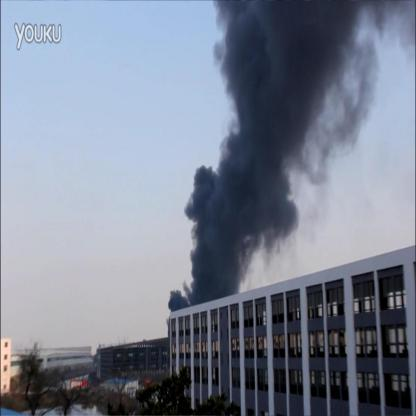smoke: (256, 2, 380, 98), (216, 141, 296, 216), (192, 220, 247, 283), (235, 101, 322, 140), (215, 32, 257, 102), (184, 164, 215, 221), (249, 218, 298, 250), (214, 3, 256, 32), (166, 289, 192, 313)
